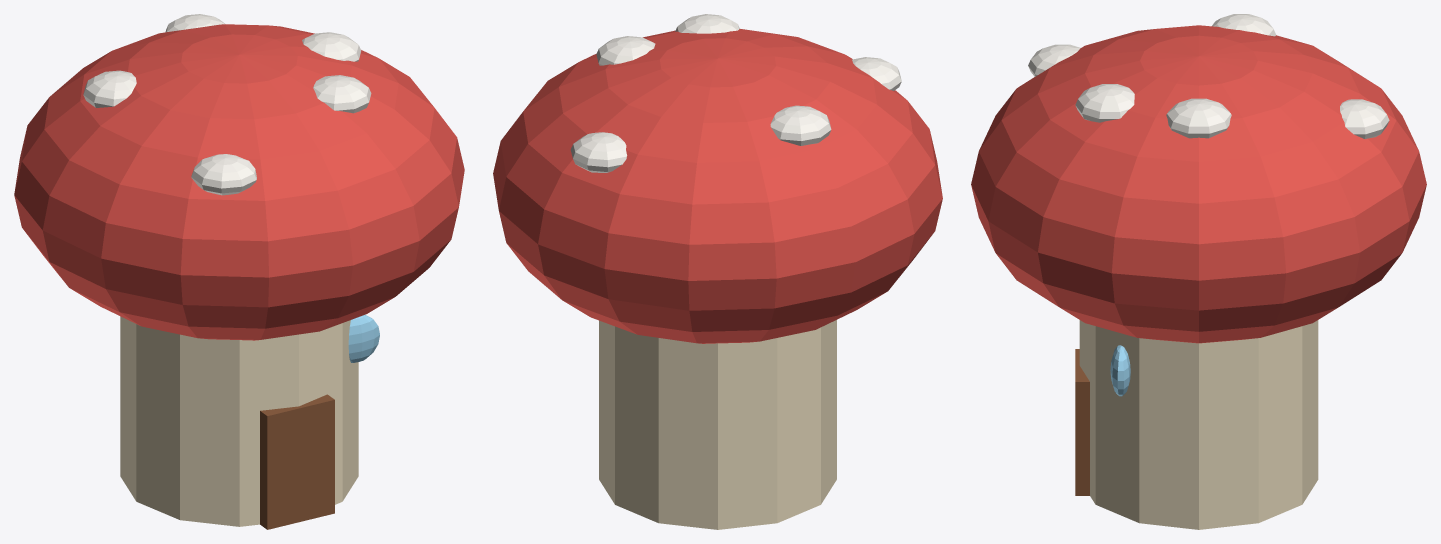
Rendered from house_b.glb.
3 views of the same model, side by side, from view 1: azimuth 30°, elevation 25°; view 2: azimuth 150°, elevation 25°; view 3: azimuth 270°, elevation 25° (orthographic).
Parts seen in each view (by area): view 1: HouseB; view 2: HouseB; view 3: HouseB.
Part boxes in pixels (x1,y1,x2,y2): HouseB: (14, 14, 464, 529); HouseB: (493, 14, 942, 529); HouseB: (971, 14, 1426, 529).
Size of the model in its own units: 2.1 by 2.15 by 2.1.
